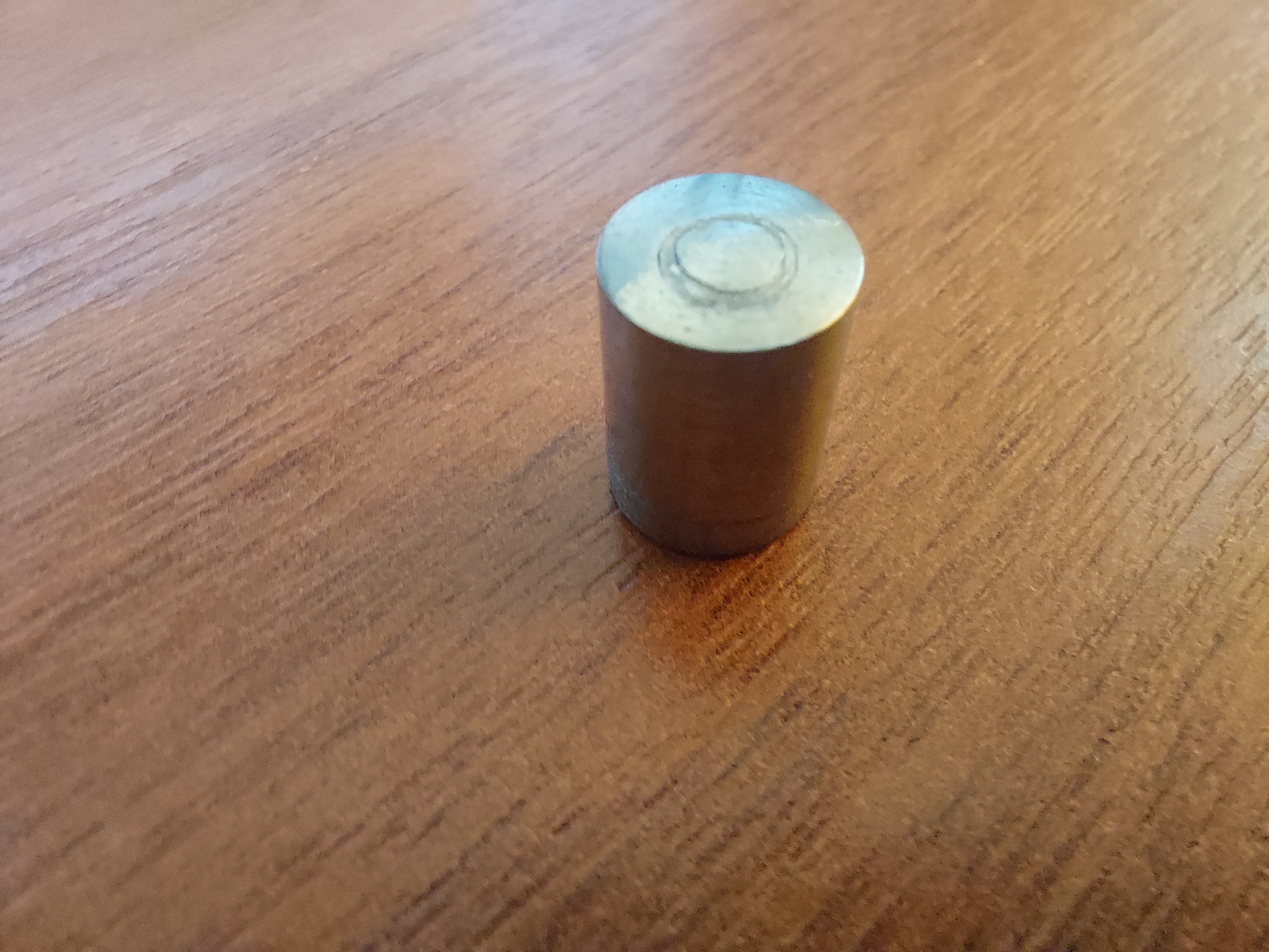tablet: (585, 159, 899, 604)
